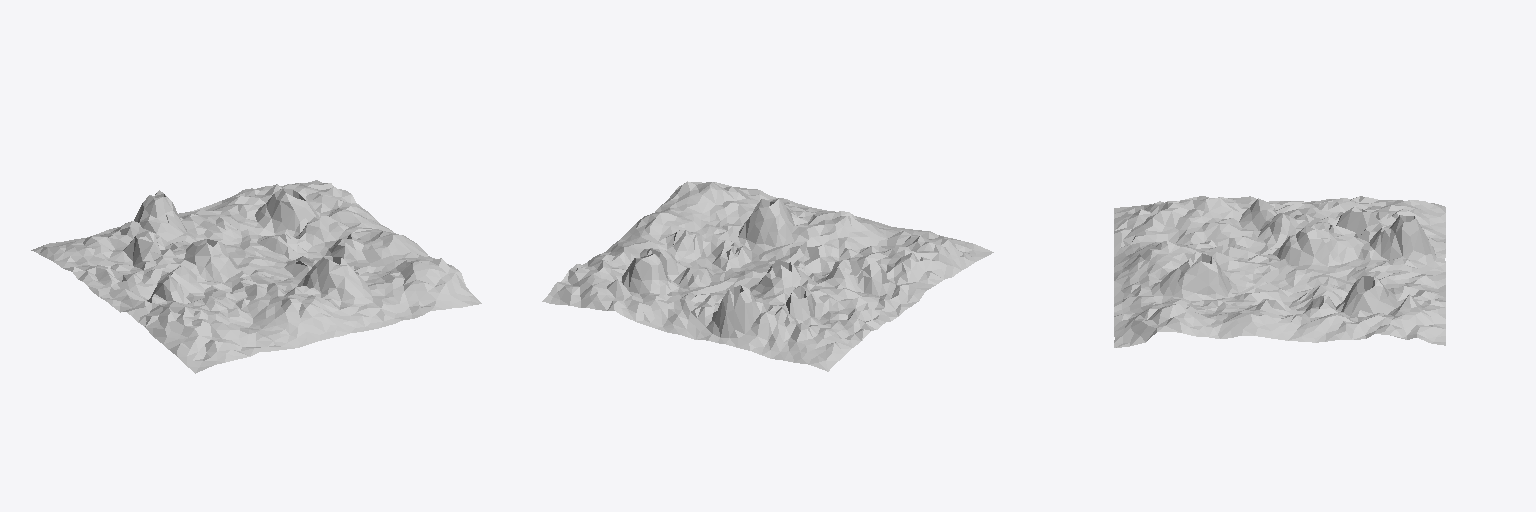
Rendered from venusTerrainUpdated.obj.
3 renders of one model, left to right at view 1: azimuth 30°, elevation 25°; view 2: azimuth 150°, elevation 25°; view 3: azimuth 270°, elevation 25°, orthographic.
Visible parts, largest first — view 1: venusTerrain; view 2: venusTerrain; view 3: venusTerrain.
Part boxes in pixels (x1,y1,x2,y2): venusTerrain: (31,180,481,373); venusTerrain: (542,181,993,371); venusTerrain: (1114,196,1445,347).
Size of the model in its own units: 150 by 23.61 by 150.